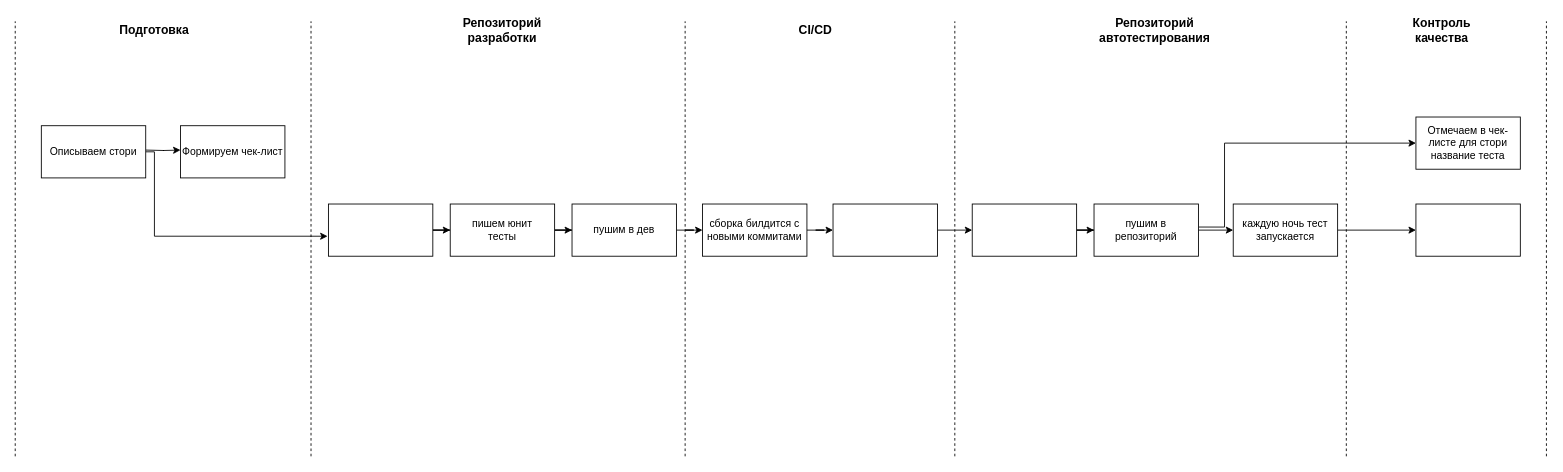
Image size: 1563x472. Some labels were removed from this diagram. Each missing label, with the box of its shape:
Делаем фичу: (328, 203, 433, 256)
пишем интеграционный тест: (971, 203, 1077, 256)
сбилденная сборка проверяется юнит тестами: (832, 203, 937, 256)
смотрим отчет о пройденных/непройденных тестах: (1415, 203, 1520, 256)
